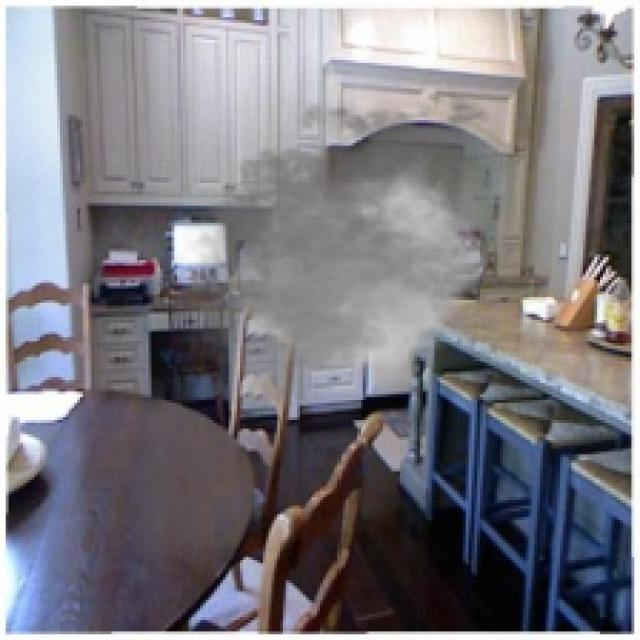smoke: (154, 80, 557, 426)
